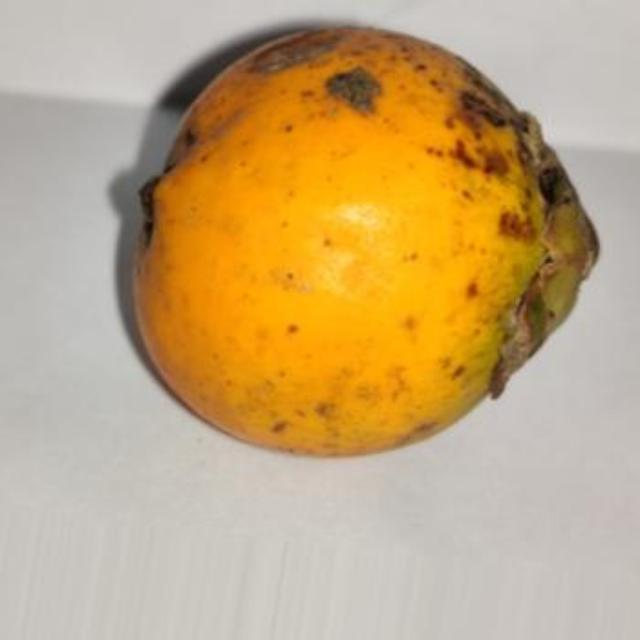good: (133, 27, 600, 461)
